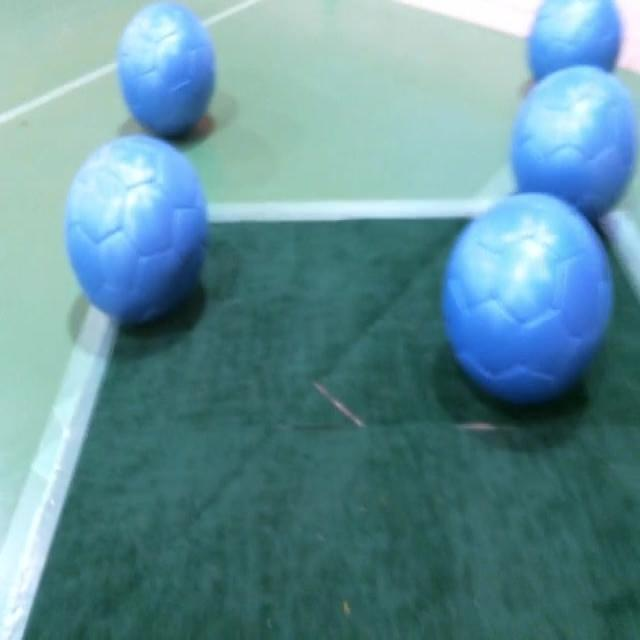blue_ball: (443, 193, 612, 410), (66, 139, 210, 325), (515, 66, 636, 218), (116, 1, 215, 132), (526, 0, 620, 90)
